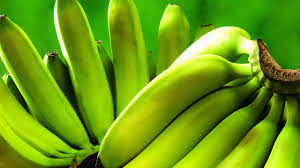banana: (100, 56, 245, 162), (53, 1, 114, 133), (133, 95, 240, 168), (1, 1, 51, 146), (103, 1, 153, 99), (154, 1, 193, 71), (187, 19, 258, 52)
